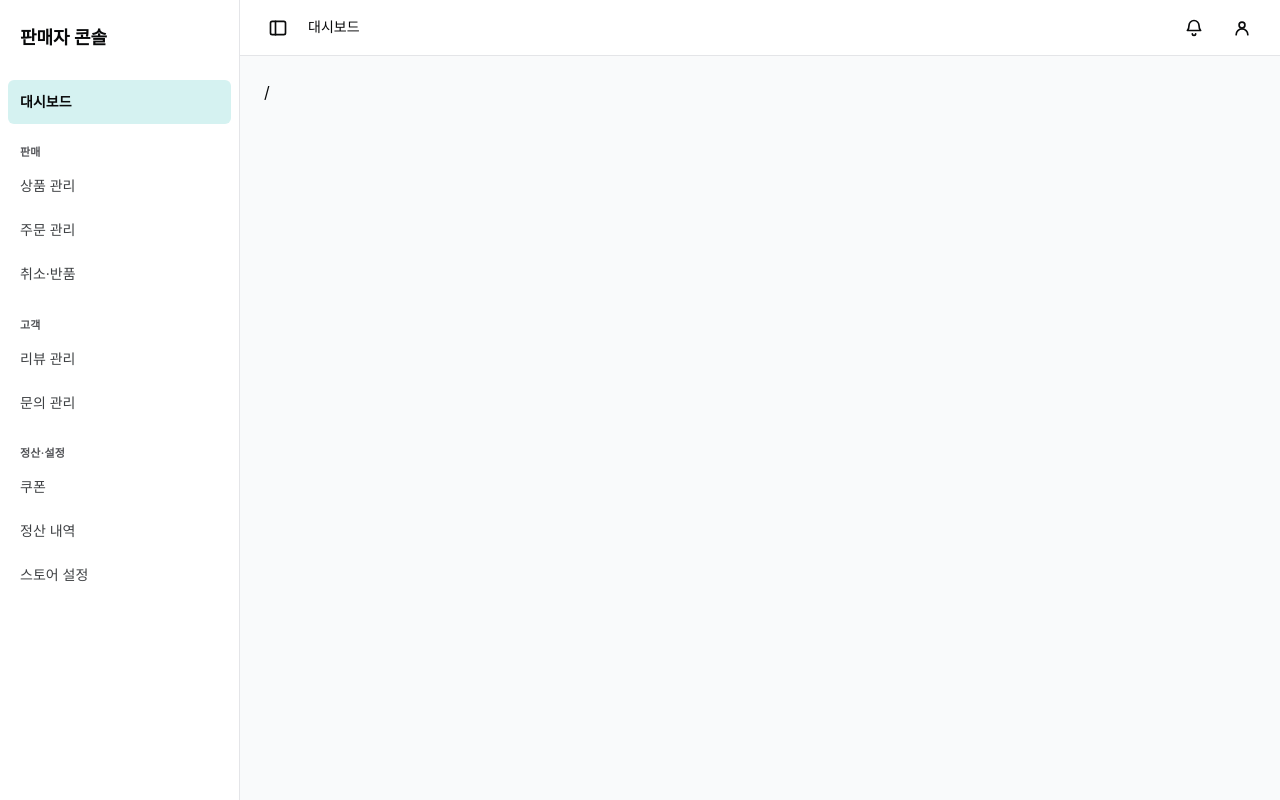
Scenario: the account menu › names the roles the account holds and offers a way out
Step 1. Click the button named "내 계정" → (1242, 28), box left=1220, top=6, right=1264, bottom=50
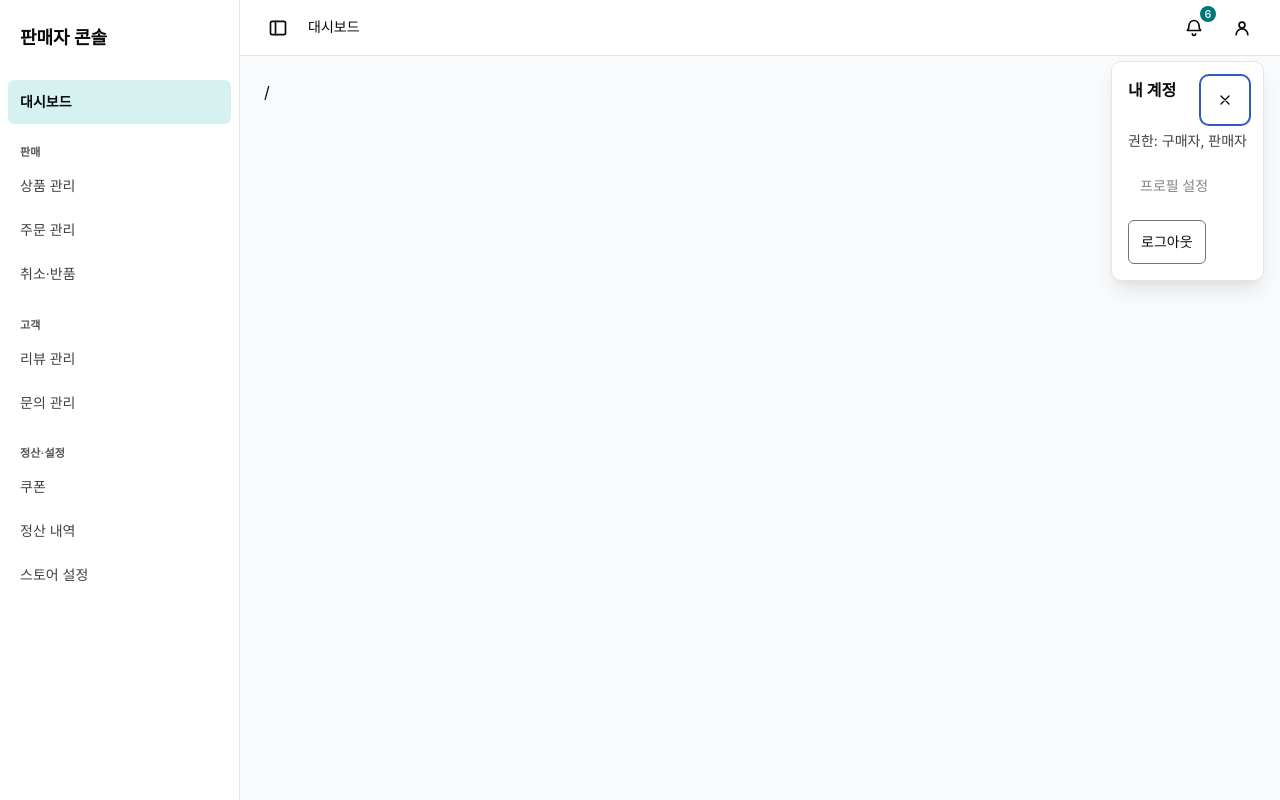
Now the text "권한: 구매자, 판매자" is shown, box left=1128, top=130, right=1247, bottom=152
Now the button "로그아웃" is shown, box left=1128, top=220, right=1206, bottom=264
